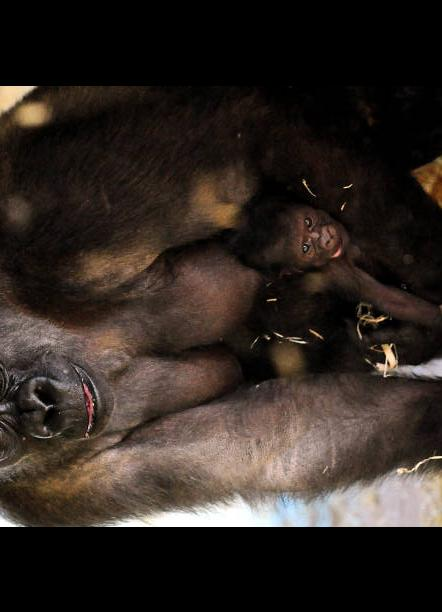gorille_Autres: (0, 105, 227, 527)
